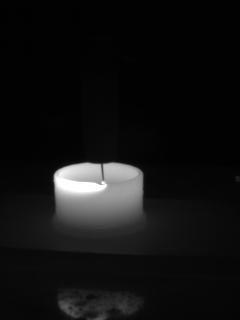tip_wire_left: (86, 158, 105, 185)
tip_wire_right: (101, 157, 117, 185)
